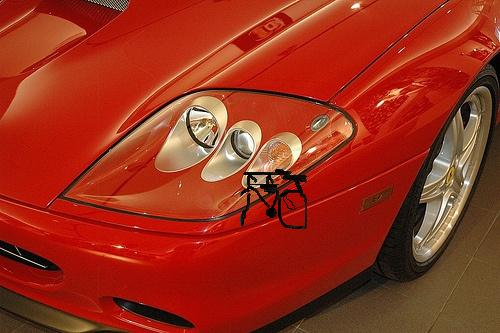tampered: (240, 170, 307, 229)
